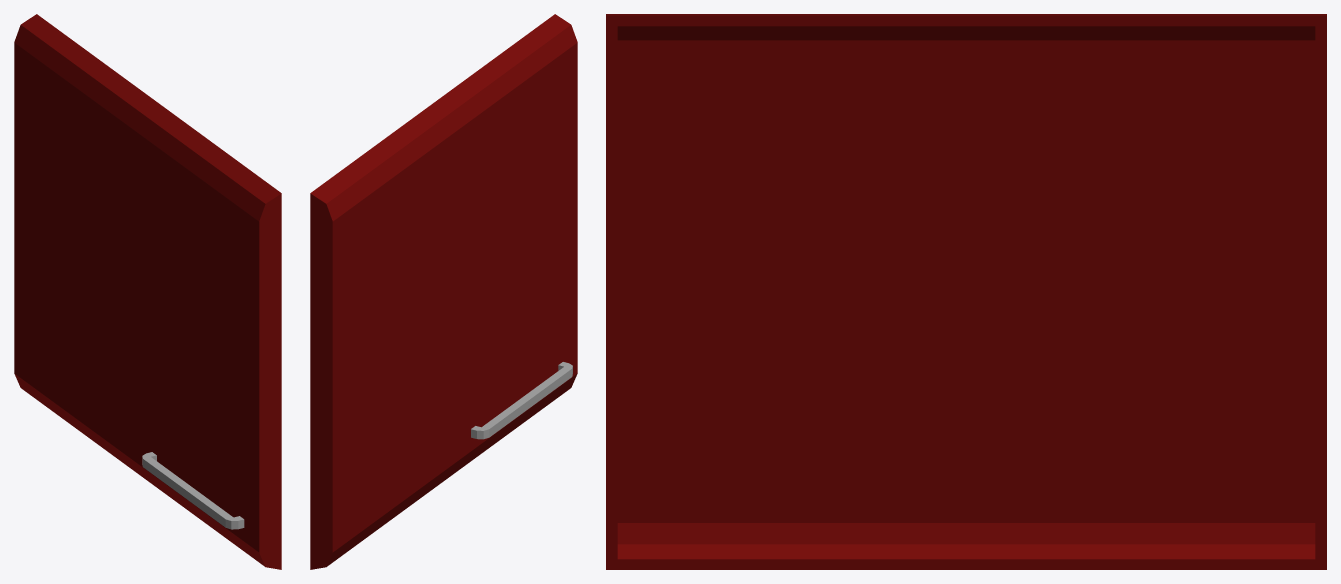
The model's file is door.obj.
The picture shows the model from 3 angles, left to right: view 1: azimuth 30°, elevation 25°; view 2: azimuth 150°, elevation 25°; view 3: azimuth 270°, elevation 25°; orthographic projection. The views are drawn at different scales.
Parts seen in each view (by area): view 1: Cube.146_Cube.174_basic_1, Cube.146_Cube.174_basic_2; view 2: Cube.146_Cube.174_basic_1, Cube.146_Cube.174_basic_2; view 3: Cube.146_Cube.174_basic_1.
Part boxes in pixels (box(x1,y1,x2,y2)): Cube.146_Cube.174_basic_1: box(14, 14, 281, 569); Cube.146_Cube.174_basic_2: box(142, 452, 244, 529); Cube.146_Cube.174_basic_1: box(310, 14, 577, 569); Cube.146_Cube.174_basic_2: box(471, 362, 572, 439); Cube.146_Cube.174_basic_1: box(606, 14, 1326, 569).
Size of the model in its own units: 0.0117 by 0.1152 by 0.1358.
